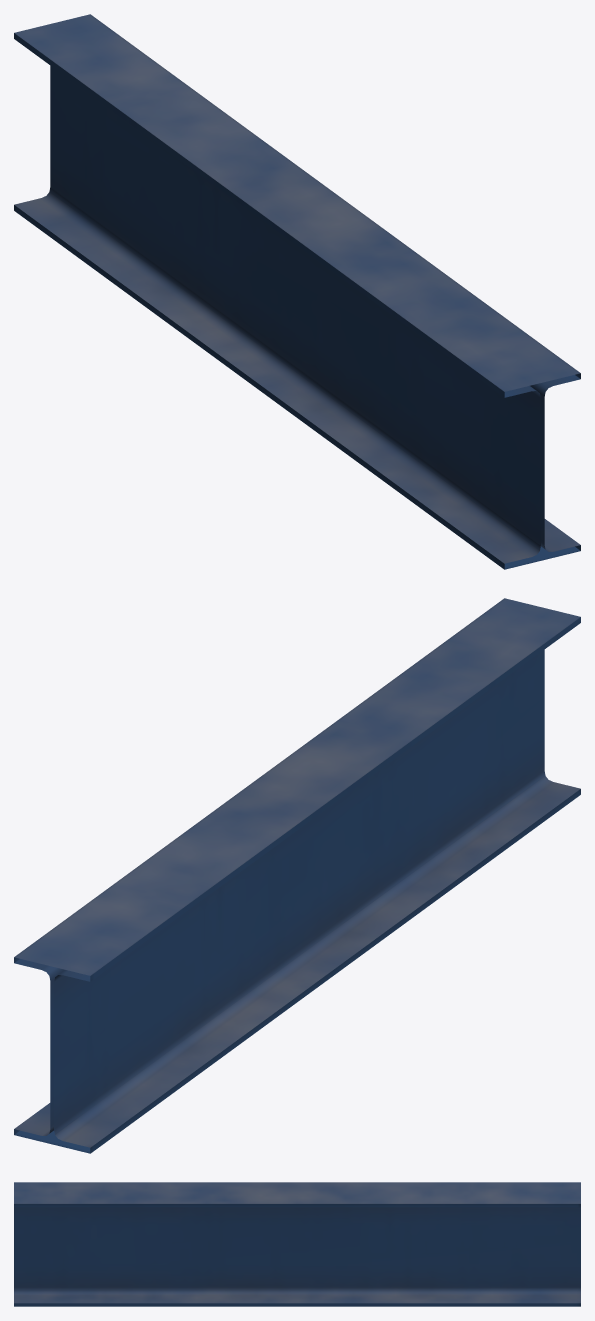
The model's file is Beam_Segment.fbx.
The picture shows the model from 3 angles, top to bottom: view 1: azimuth 30°, elevation 25°; view 2: azimuth 150°, elevation 25°; view 3: azimuth 270°, elevation 25°; orthographic projection. The views are drawn at different scales.
Parts seen in each view (by area): view 1: Beam_Segment_LOD0; view 2: Beam_Segment_LOD0; view 3: Beam_Segment_LOD0.
Boxes of the visible parts, <box> form: Beam_Segment_LOD0: <box>14,14,580,569</box>; Beam_Segment_LOD0: <box>14,598,580,1153</box>; Beam_Segment_LOD0: <box>14,1182,580,1306</box>.
Bounding box in the file's own units: 0.18 × 0.4 × 2.
Materials: 1 (1 with a texture image).
